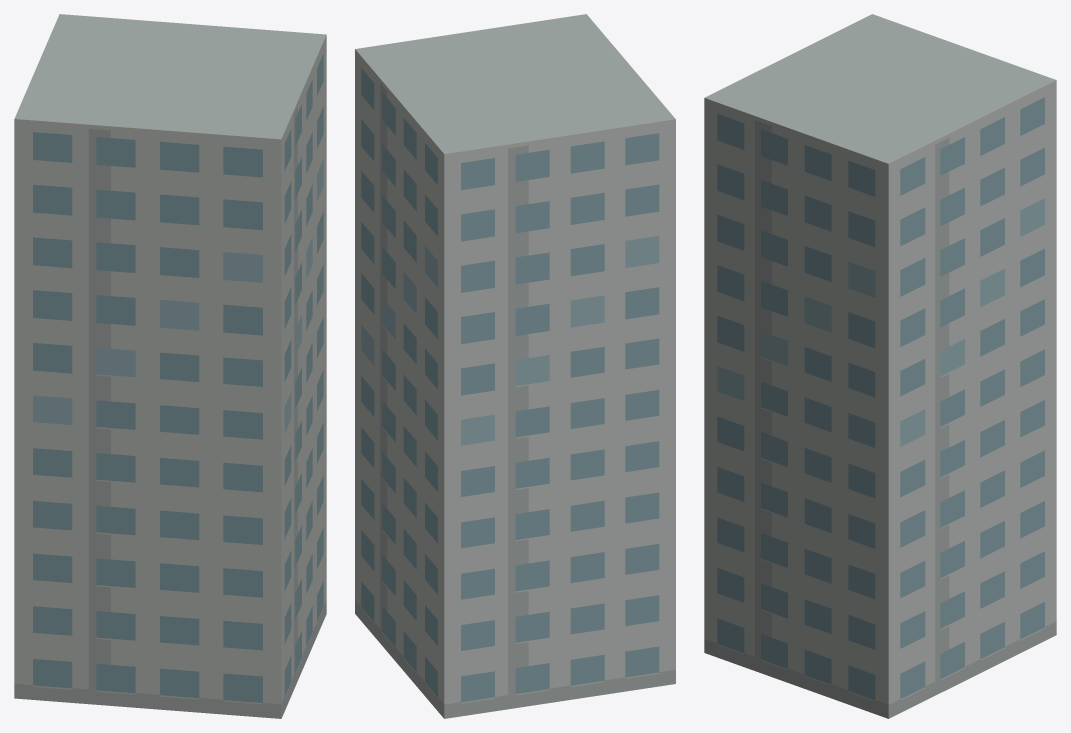
Rendered from residential-4b575df3-69e6-4638-9cdd-f19979efbe3d.glb.
3 views of the same model, side by side, from view 1: azimuth 30°, elevation 25°; view 2: azimuth 150°, elevation 25°; view 3: azimuth 270°, elevation 25° (orthographic). The views are drawn at different scales.
Visible parts, largest first — view 1: residential-4b575df3-69e6-4638-9cdd-f19979efbe3d.tmp; view 2: residential-4b575df3-69e6-4638-9cdd-f19979efbe3d.tmp; view 3: residential-4b575df3-69e6-4638-9cdd-f19979efbe3d.tmp.
Boxes of the visible parts, box(x1,y1,x2,y2) form: residential-4b575df3-69e6-4638-9cdd-f19979efbe3d.tmp: box(14, 14, 326, 718); residential-4b575df3-69e6-4638-9cdd-f19979efbe3d.tmp: box(355, 14, 675, 718); residential-4b575df3-69e6-4638-9cdd-f19979efbe3d.tmp: box(704, 14, 1056, 718).
Bounding box in the file's own units: 19.7 × 34 × 19.57.
